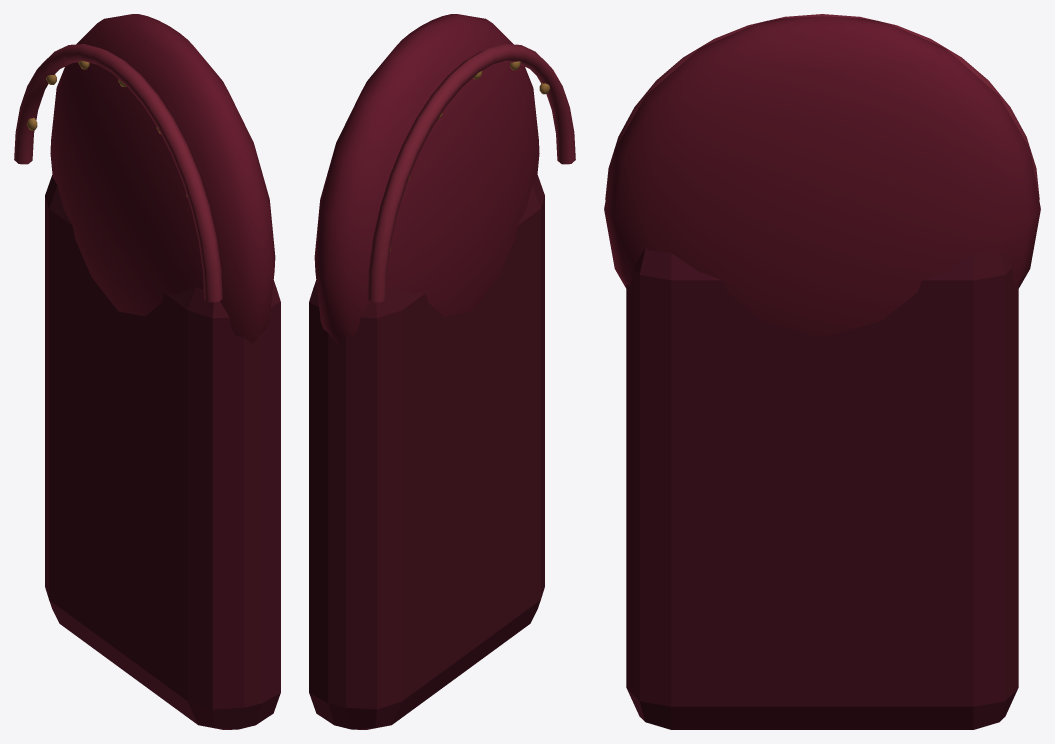
File: SM_Menu_AudienceSeat_03.fbx
3 views of the same model, side by side, from view 1: azimuth 30°, elevation 25°; view 2: azimuth 150°, elevation 25°; view 3: azimuth 270°, elevation 25° (orthographic). The views are drawn at different scales.
Visible parts, largest first — view 1: Audience chair back.006_Baked; view 2: Audience chair back.006_Baked; view 3: Audience chair back.006_Baked.
Boxes of the visible parts, bbox=[...] form: Audience chair back.006_Baked: bbox=[14, 14, 280, 729]; Audience chair back.006_Baked: bbox=[309, 14, 575, 729]; Audience chair back.006_Baked: bbox=[604, 14, 1040, 729].
Size of the model in its own units: 24 by 78 by 139.
